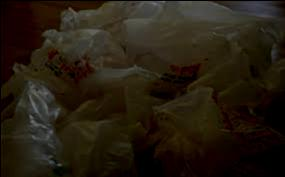Plastic: (147, 85, 284, 176)
